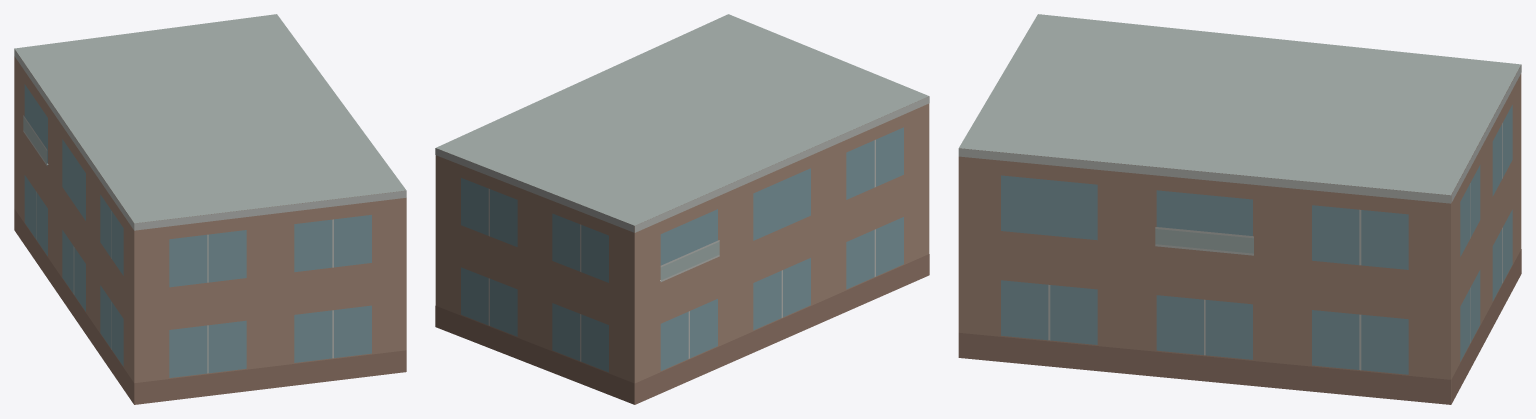
File: survey-upis-32799451.glb
3 renders of one model, left to right at view 1: azimuth 30°, elevation 25°; view 2: azimuth 150°, elevation 25°; view 3: azimuth 270°, elevation 25°, orthographic. The views are drawn at different scales.
Visible parts, largest first — view 1: survey-upis-32799451.tmp; view 2: survey-upis-32799451.tmp; view 3: survey-upis-32799451.tmp.
Part boxes in pixels (left/top/right/bottom): survey-upis-32799451.tmp: left=14, top=14, right=406, bottom=404; survey-upis-32799451.tmp: left=435, top=14, right=929, bottom=404; survey-upis-32799451.tmp: left=958, top=14, right=1521, bottom=404.
Bounding box in the file's own units: 11.32 × 6.1 × 14.85.
